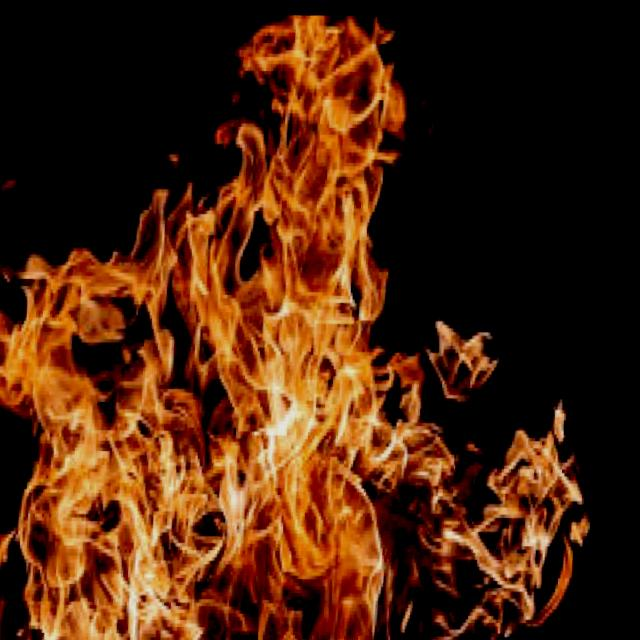Fire: (2, 1, 613, 640)
